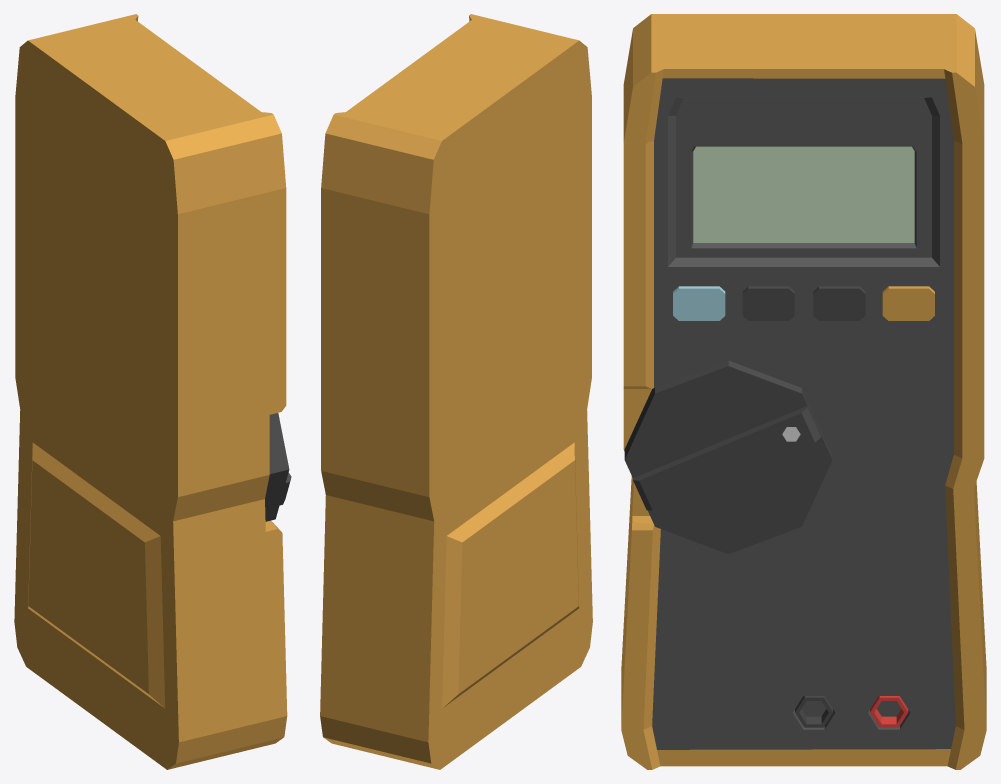
The model's file is Multimeter.glb.
3 renders of one model, left to right at view 1: azimuth 30°, elevation 25°; view 2: azimuth 150°, elevation 25°; view 3: azimuth 270°, elevation 25°, orthographic. The views are drawn at different scales.
Visible parts, largest first — view 1: Multmeter_Cube; view 2: Multmeter_Cube; view 3: Multmeter_Cube.
Part boxes in pixels (x1=…): Multmeter_Cube: x1=14, y1=14, x2=291, y2=769; Multmeter_Cube: x1=320, y1=14, x2=592, y2=769; Multmeter_Cube: x1=621, y1=14, x2=986, y2=769.
Bounding box in the file's own units: 0.1951 × 0.9057 × 0.4303.
